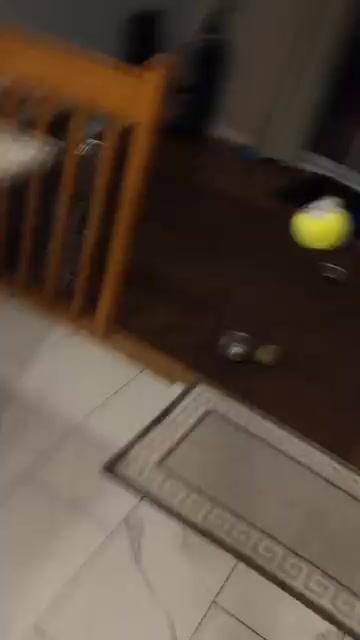tennis_ball: (285, 195, 356, 255)
